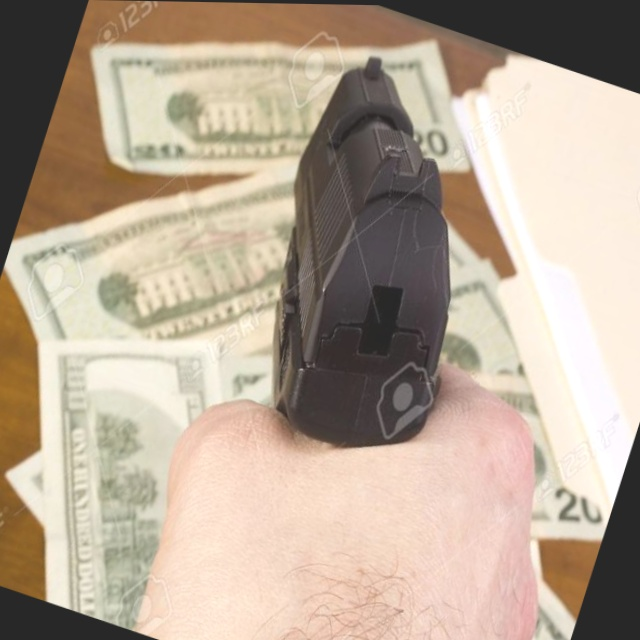gun: (192, 31, 560, 552)
